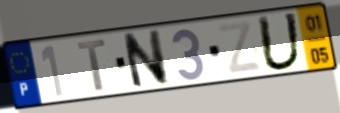1: (39, 44, 65, 98)
3: (170, 26, 207, 83)
N: (119, 27, 171, 91)
T: (75, 37, 108, 94)
U: (255, 11, 305, 73)
Z: (215, 18, 265, 77)
